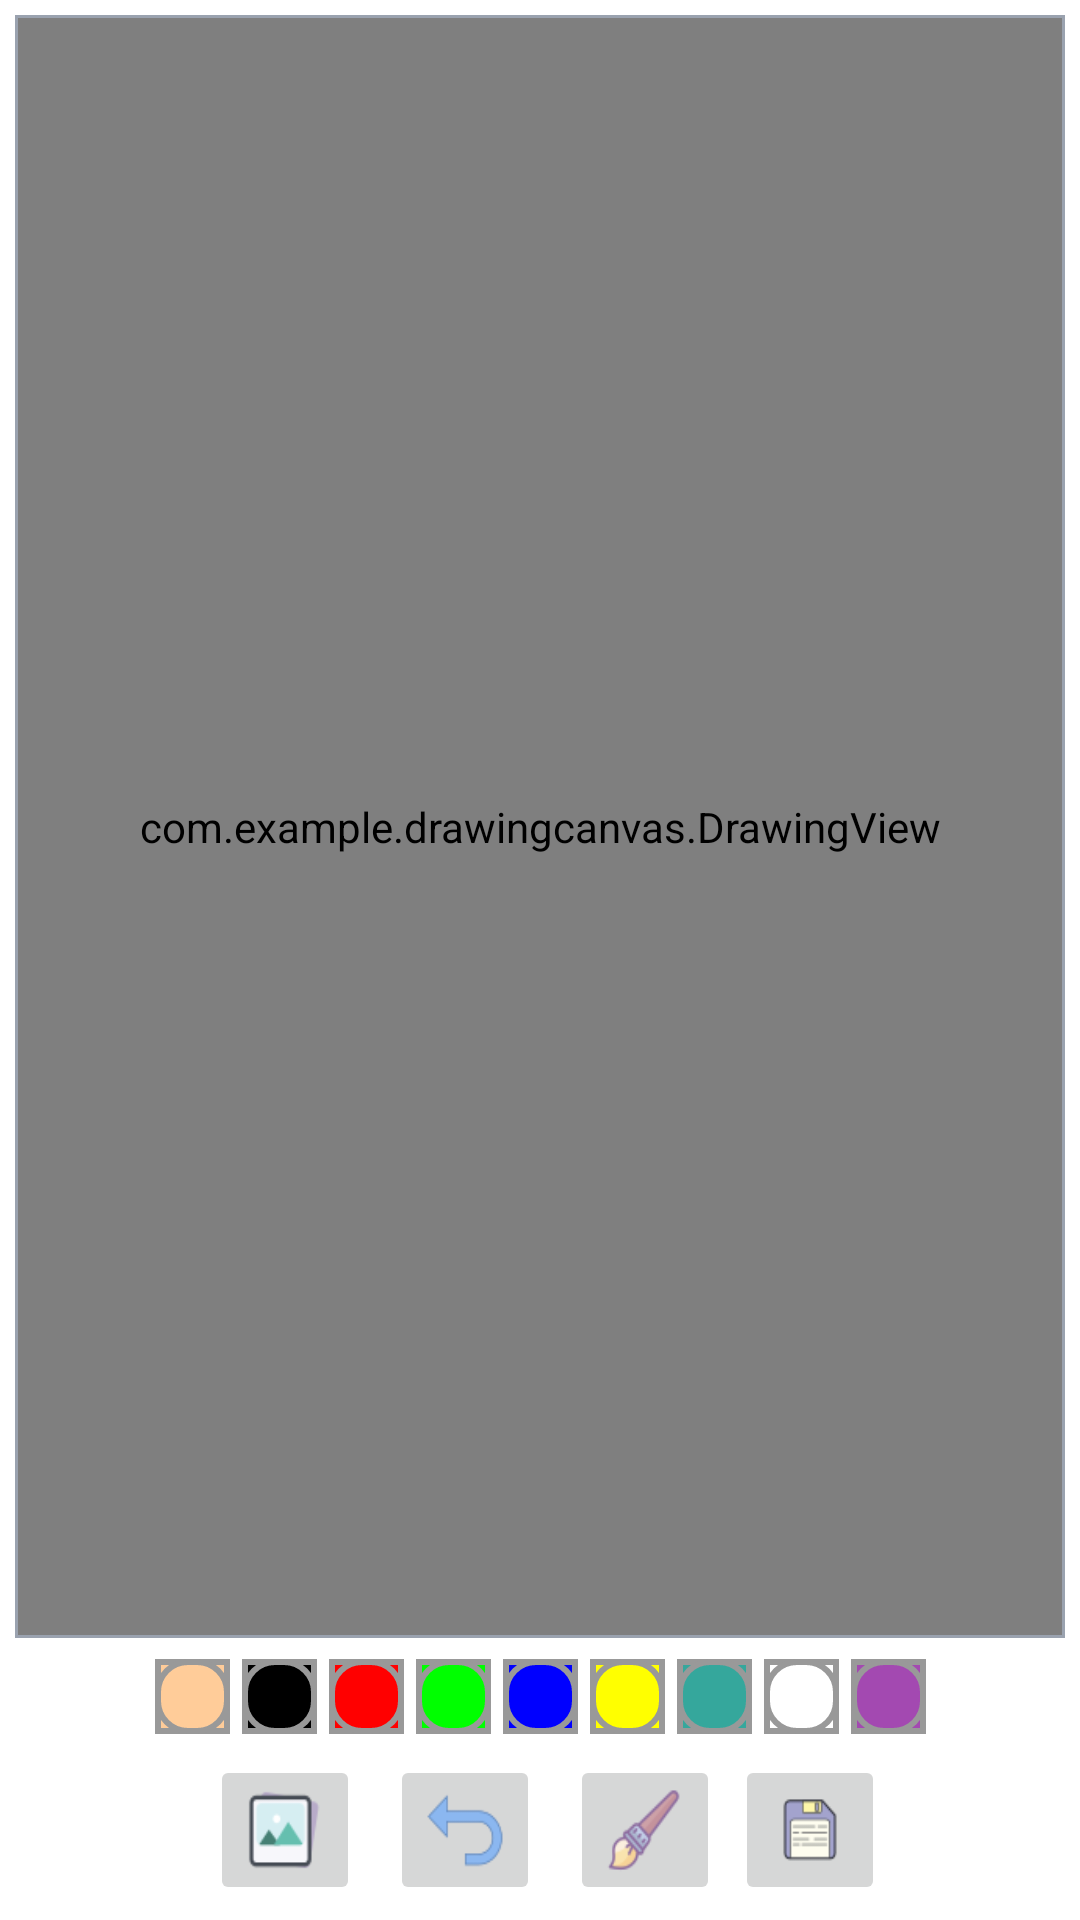

Icon click points for this 1080 × 1920 phone screenshot, format [x,y]:
brush: [645,1830]
gallery: [285,1830]
save: [810,1830]
undo: [465,1830]
